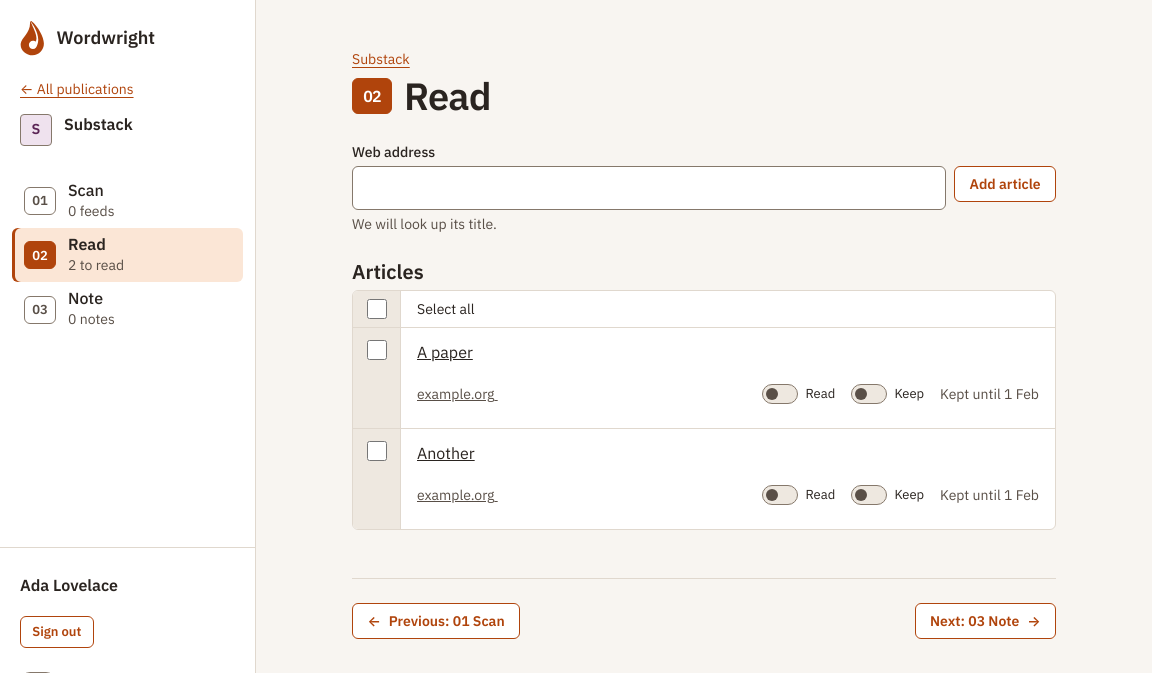
Test: moving articles › moves the chosen items to an idea, and says what moved, with an Undo
Click the checkbox named "Select A paper".
click(376, 350)  # box [366,340,386,360]
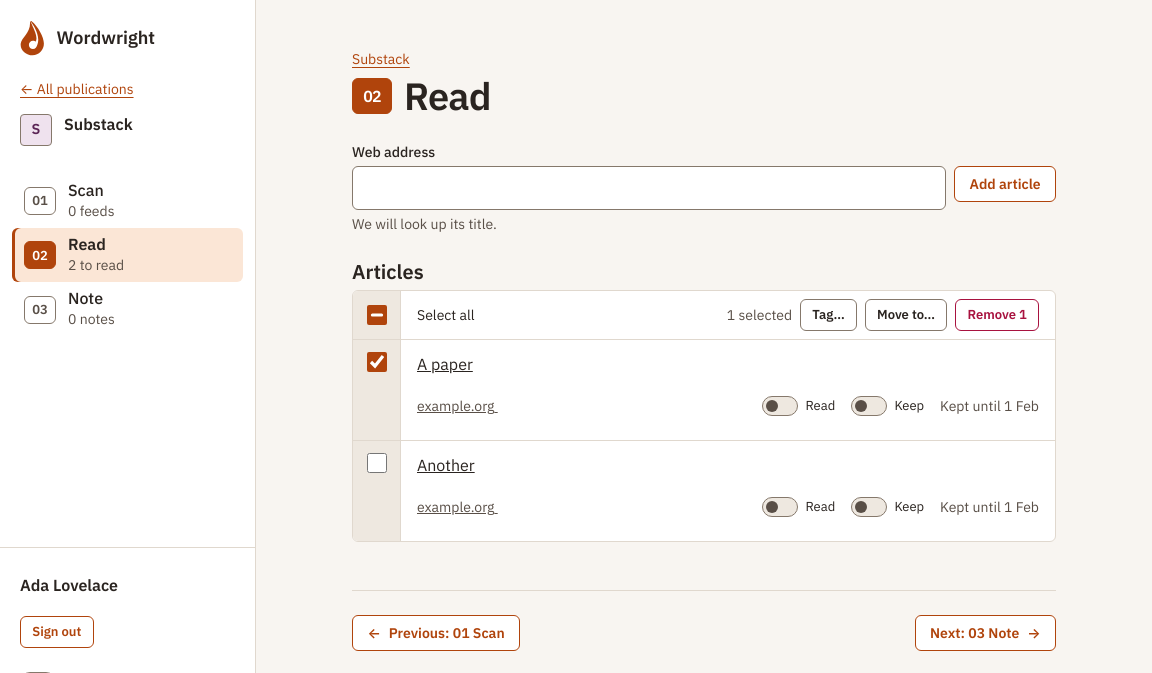
Click the checkbox named "Select Another".
click(376, 463)  # box [366,453,386,473]
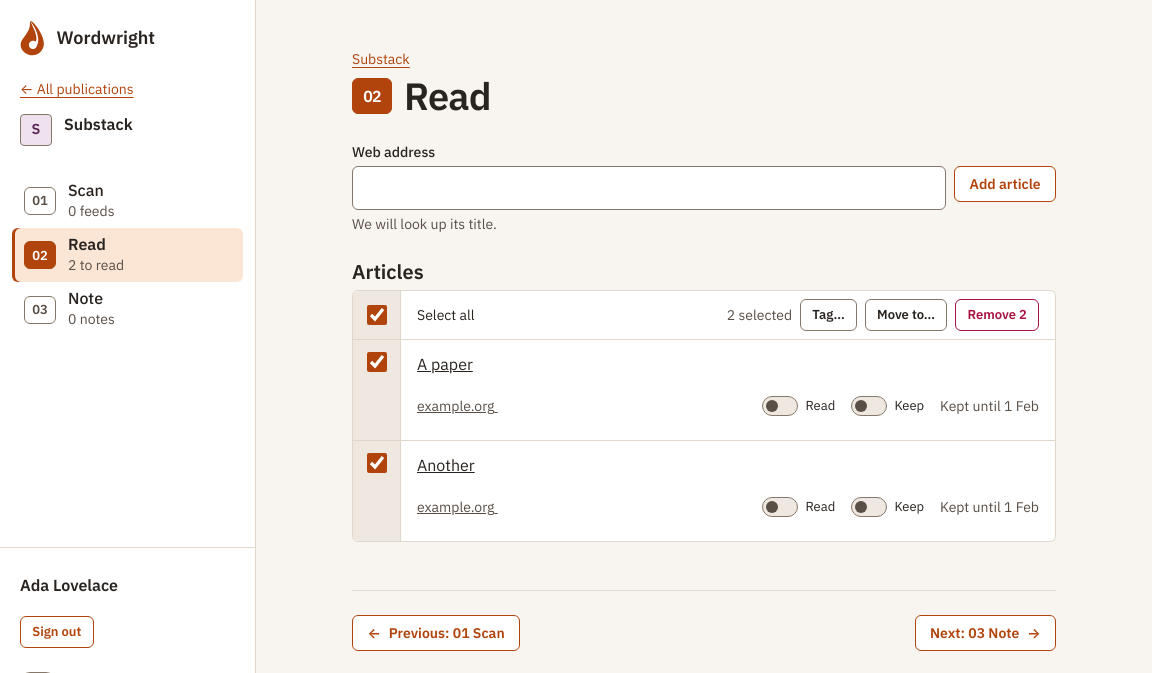
Click the button "Move to…".
click(906, 315)  # box [865,299,947,331]
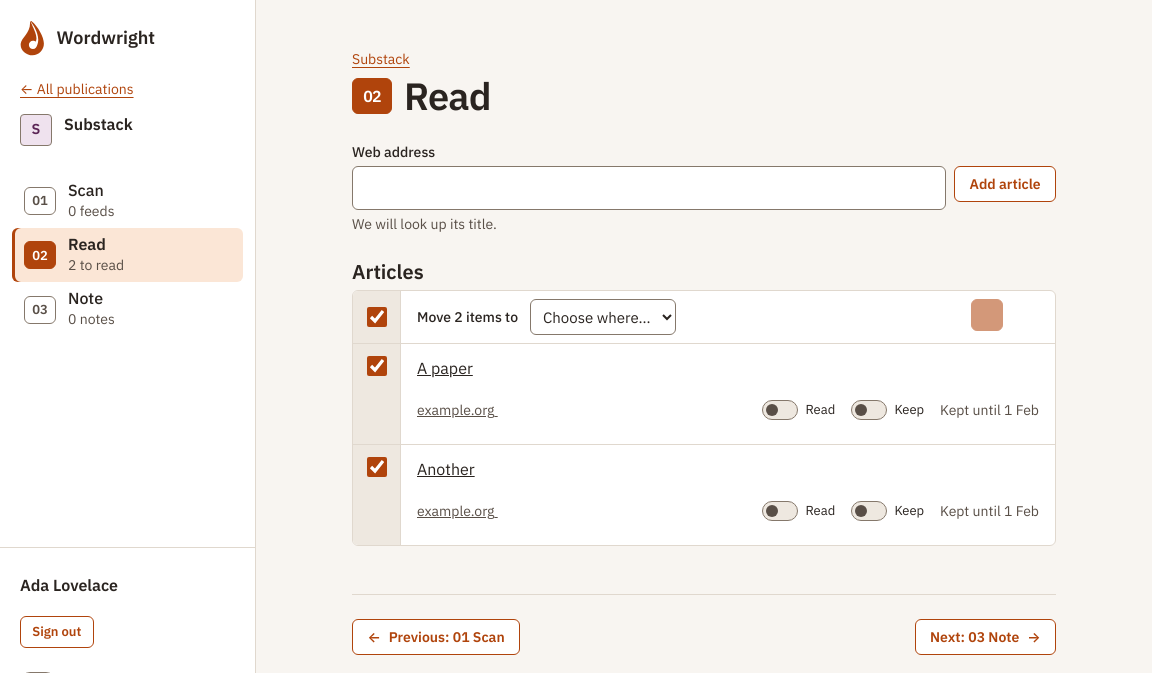
Select "Rivers" in the dropdown labelled "Move 2 items to" at (603, 317), box [530,299,676,335]
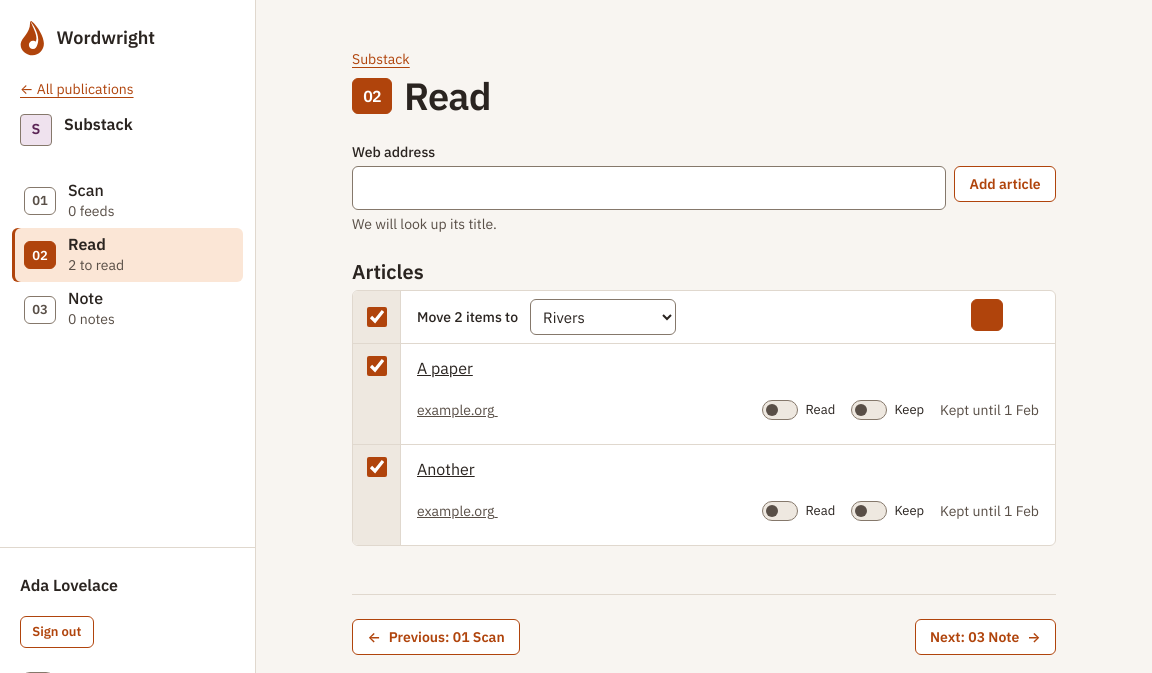
Click the button named "Move 2 items".
click(987, 315)  # box [971,299,1003,331]
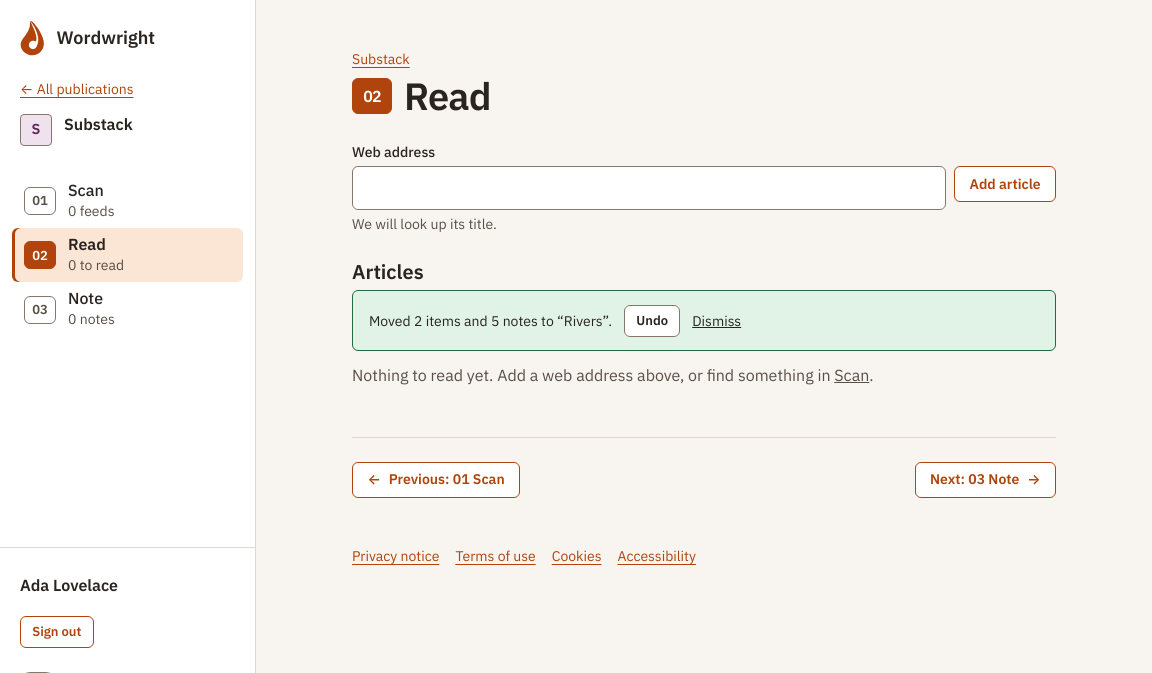
Check: the message shows "Moved 2 items and 5 notes to “Rivers”.", box [369,312,612,330]
Check: the text "Nothing to read yet" is shown, box [352,365,834,385]
